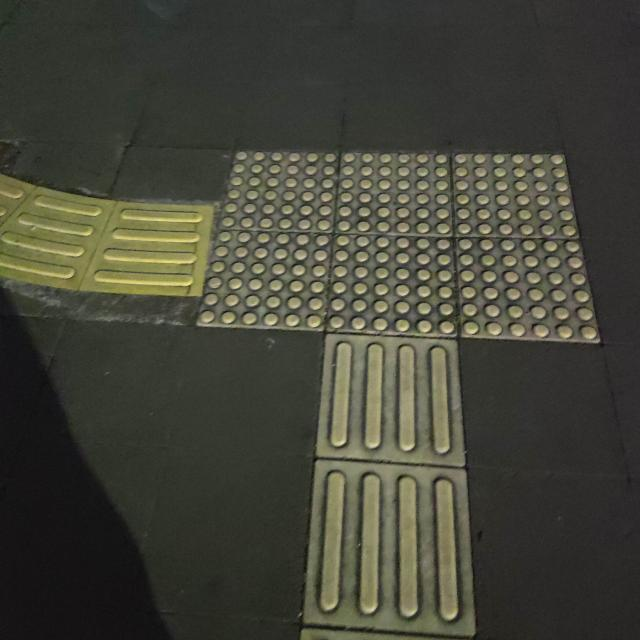kiri: (31, 159, 508, 441)
